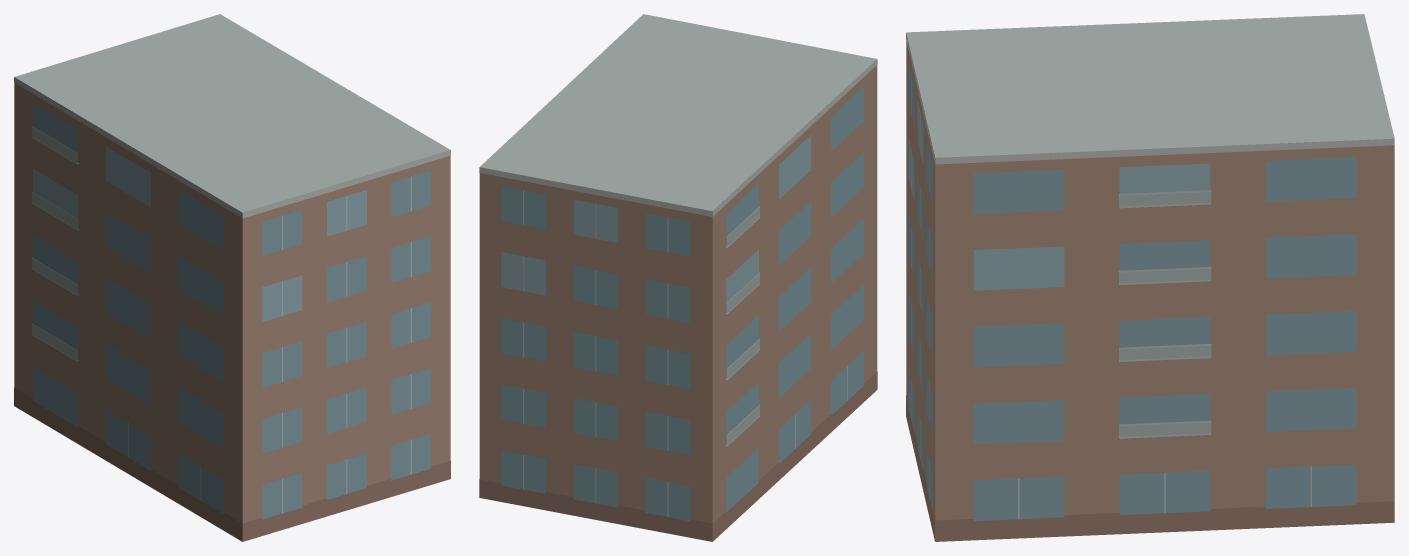
File: survey-upis-32949795.glb
The picture shows the model from 3 angles, left to right: view 1: azimuth 30°, elevation 25°; view 2: azimuth 150°, elevation 25°; view 3: azimuth 270°, elevation 25°; orthographic projection. The views are drawn at different scales.
Parts seen in each view (by area): view 1: survey-upis-32949795.tmp; view 2: survey-upis-32949795.tmp; view 3: survey-upis-32949795.tmp.
Part boxes in pixels (x1=…): survey-upis-32949795.tmp: x1=14, y1=14, x2=450, y2=541; survey-upis-32949795.tmp: x1=479, y1=14, x2=877, y2=541; survey-upis-32949795.tmp: x1=906, y1=14, x2=1394, y2=541.
Bounding box in the file's own units: 11.34 × 14.1 × 16.27.
